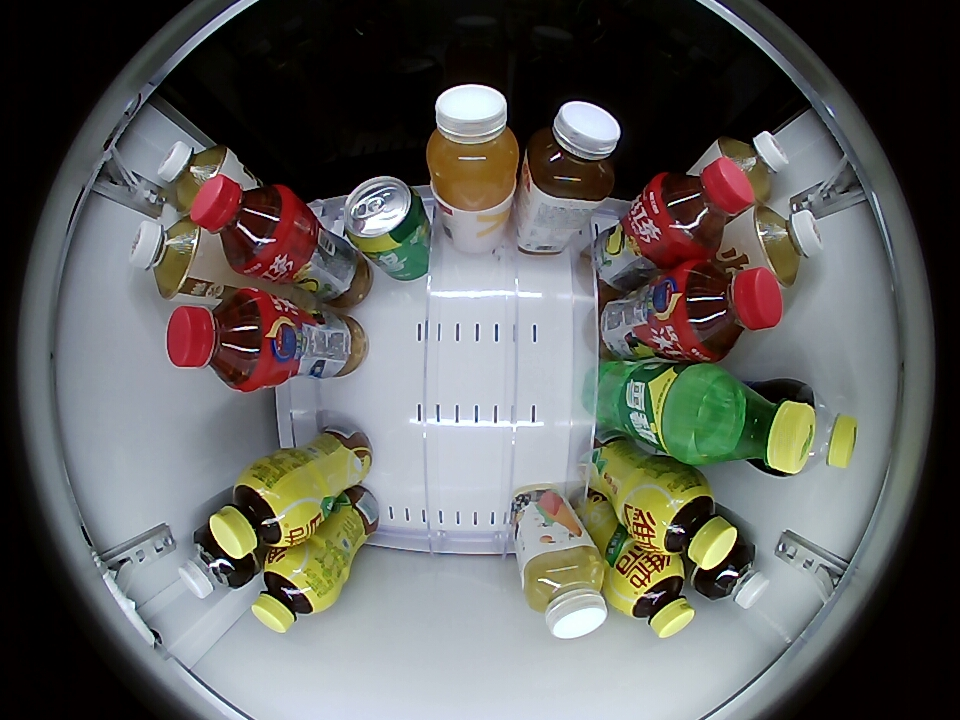baishikele: (793, 384, 859, 476)
binghongcha: (166, 287, 276, 392), (189, 173, 299, 276), (675, 260, 782, 362), (647, 158, 754, 258)
chapai: (524, 101, 622, 203)
chapai2: (520, 544, 608, 639)
rancha-2: (750, 205, 824, 285), (129, 219, 202, 297), (716, 130, 789, 203), (157, 140, 230, 210)
weic: (426, 84, 520, 211)
weitaningmeng-bottle: (636, 471, 740, 571), (209, 465, 307, 560), (613, 556, 695, 639), (252, 553, 333, 634)
wulongcha: (178, 528, 250, 599), (700, 540, 770, 609)
xuebi-b: (694, 372, 817, 475)
xuebi2: (343, 177, 427, 255)
